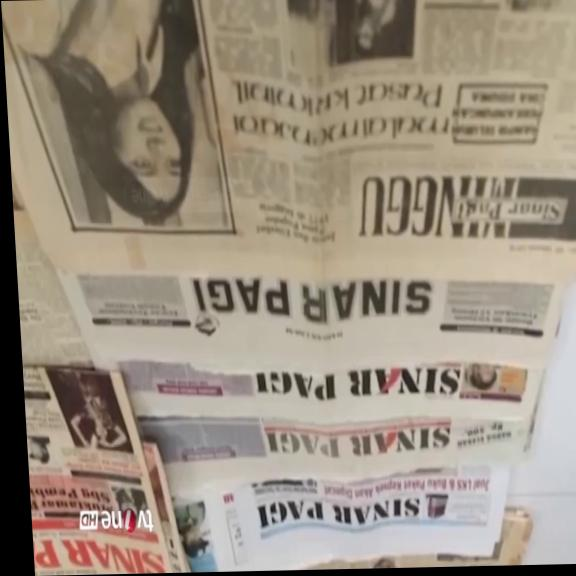Kertas: (182, 0, 576, 297), (107, 319, 562, 472), (194, 462, 512, 569), (327, 145, 576, 273), (14, 202, 92, 373)
